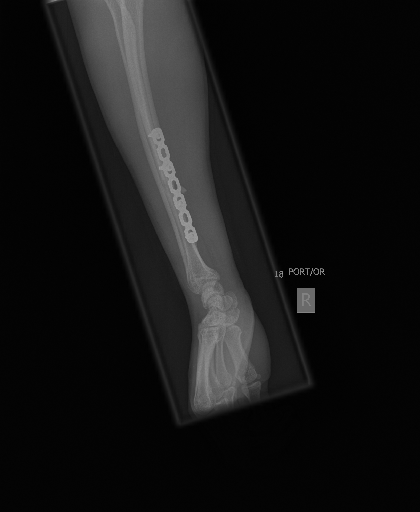implant: (149, 129, 200, 243)
